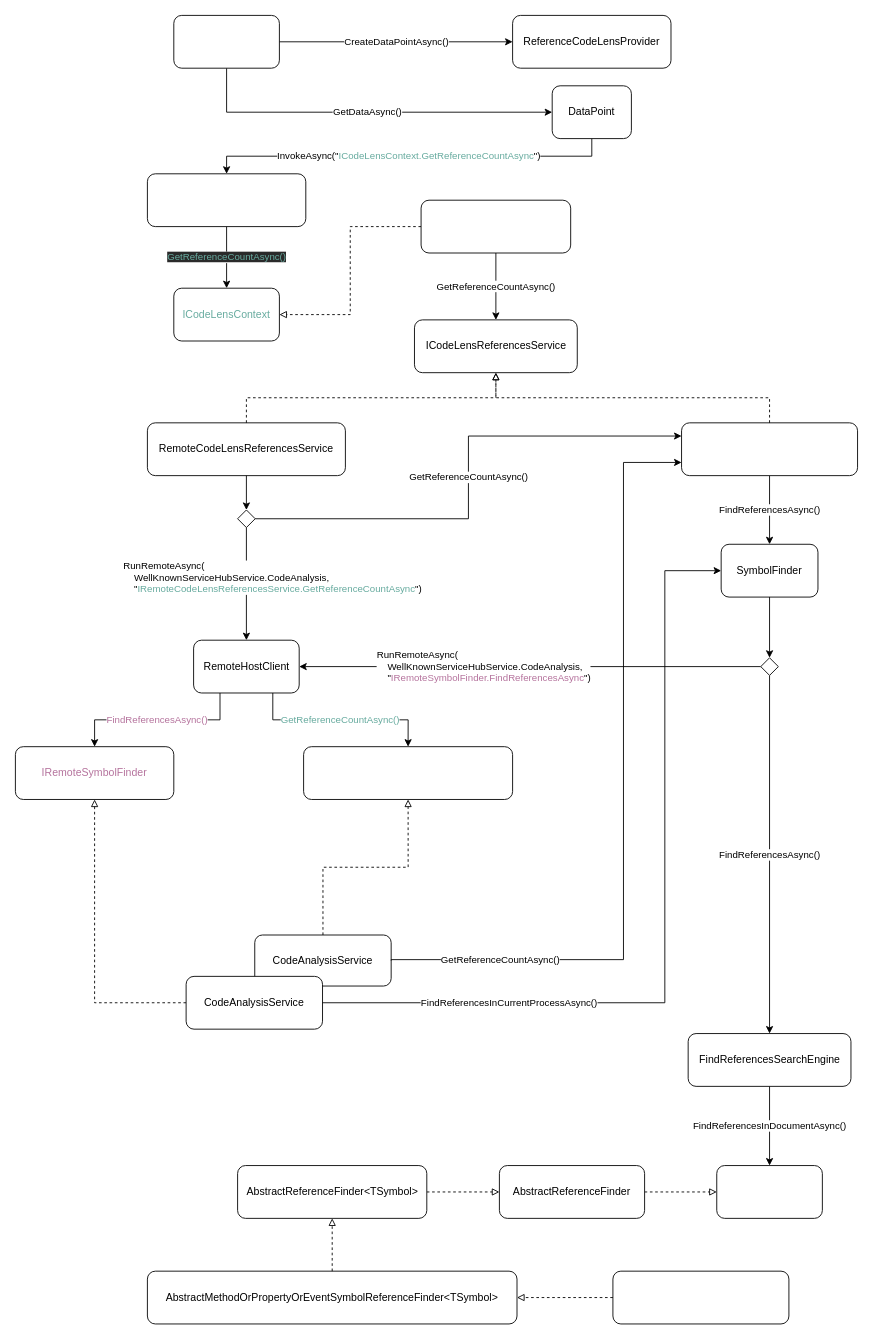
This 873x1339 diagram has some shape labels left out. Each missing label, with the centre of its shape:
"CodeLensCallbackListener" belongs at (495,226).
"CodeLensReferencesService" belongs at (769,449).
"ICodeLensCallbackService" belongs at (226,200).
"IReferenceFinder" belongs at (769,1191).
"IRemoteCodeLensReferencesService" belongs at (408,772).
"OrdinaryMethodReferenceFinder" belongs at (700,1297).
"ServiceHub" belongs at (226,41).
